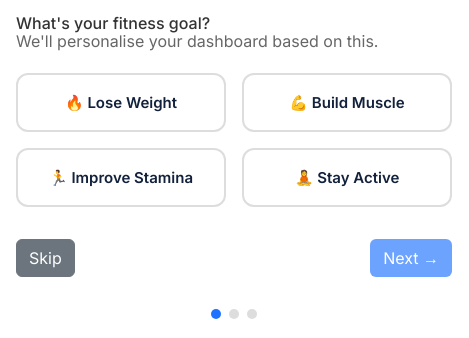
it: Onboarding › disables Next button until a goal is selected
Expected: the button "Next →" is disabled, x1=370 y1=239 x2=452 y2=277
Click the switch "🔥 Lose Weight" at (121, 103), box x1=16 y1=73 x2=226 y2=132
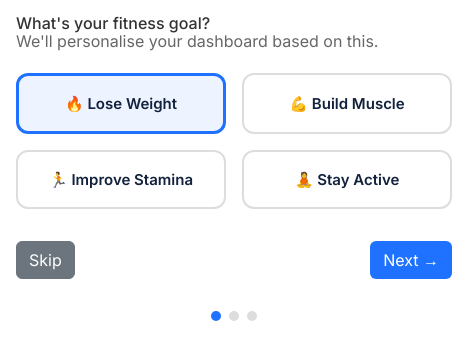
Result: the button "Next →" is enabled at x1=370 y1=241 x2=452 y2=279
